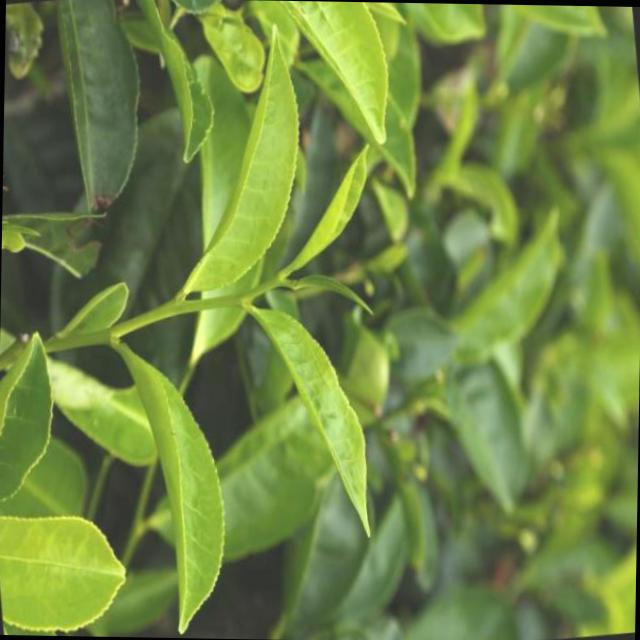Stem: (262, 273, 282, 291)
